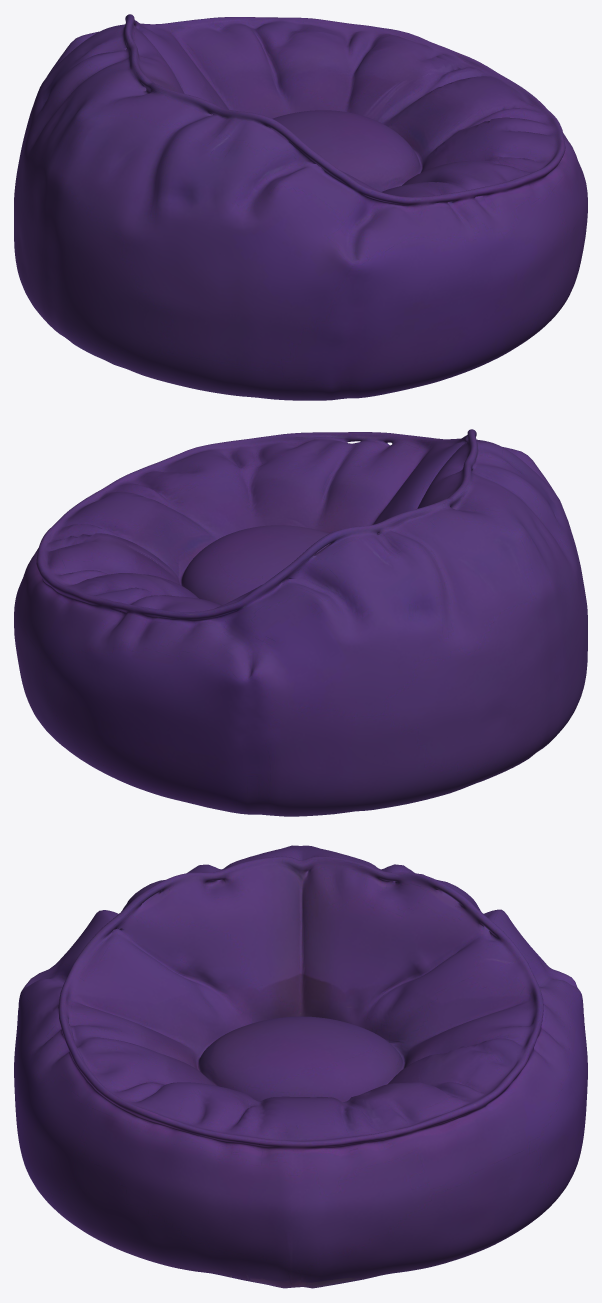
Rendered from tripo_convert_6a873a1d-0458-4f00-946d-61c4e14f2746.fbx.
3 renders of one model, top to bottom at view 1: azimuth 30°, elevation 25°; view 2: azimuth 150°, elevation 25°; view 3: azimuth 270°, elevation 25°, orthographic.
Parts seen in each view (by area): view 1: tripo_node_6a873a1d; view 2: tripo_node_6a873a1d; view 3: tripo_node_6a873a1d.
Boxes of the visible parts, x1,y1,x2,y2 form: tripo_node_6a873a1d: [14, 14, 587, 400]; tripo_node_6a873a1d: [14, 429, 587, 816]; tripo_node_6a873a1d: [14, 845, 587, 1288].
Size of the model in its own units: 0.9985 by 0.4871 by 0.9752.
1 material, 1 textured.
